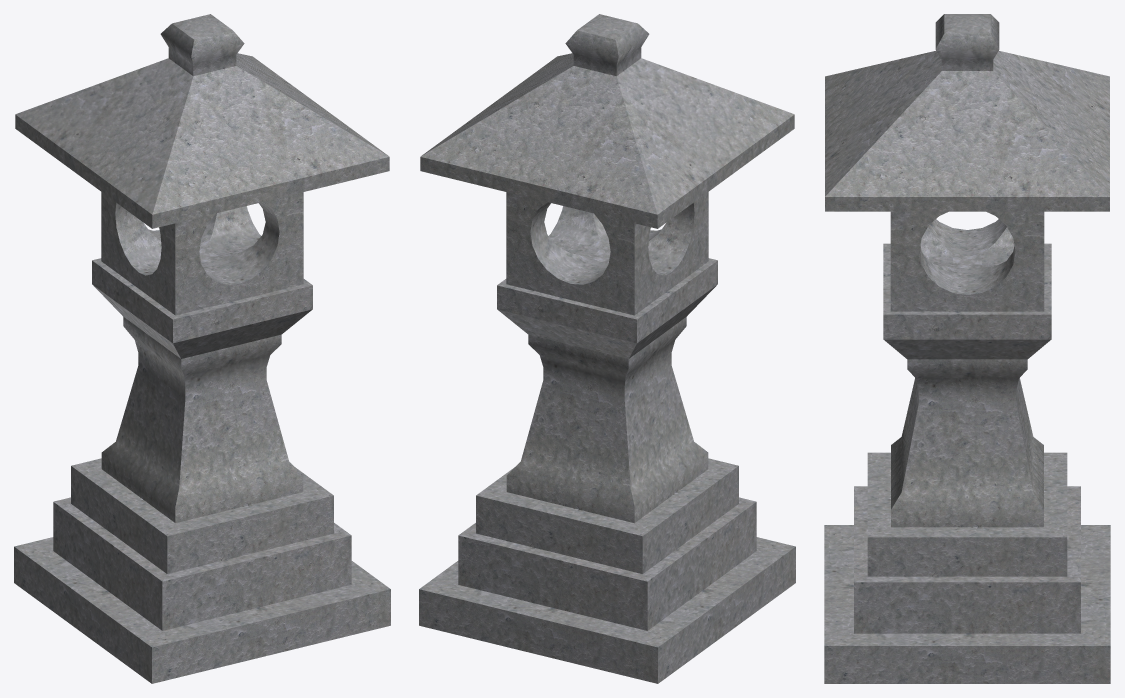
Rendered from brazier.fbx.
3 renders of one model, left to right at view 1: azimuth 30°, elevation 25°; view 2: azimuth 150°, elevation 25°; view 3: azimuth 270°, elevation 25°, orthographic. The views are drawn at different scales.
Visible parts, largest first — view 1: brazier; view 2: brazier; view 3: brazier.
Boxes of the visible parts, left/top/right/bottom form: brazier: left=14, top=14, right=390, bottom=683; brazier: left=419, top=14, right=795, bottom=683; brazier: left=824, top=14, right=1110, bottom=683.
Size of the model in its own units: 2.57 by 5.99 by 2.57.
